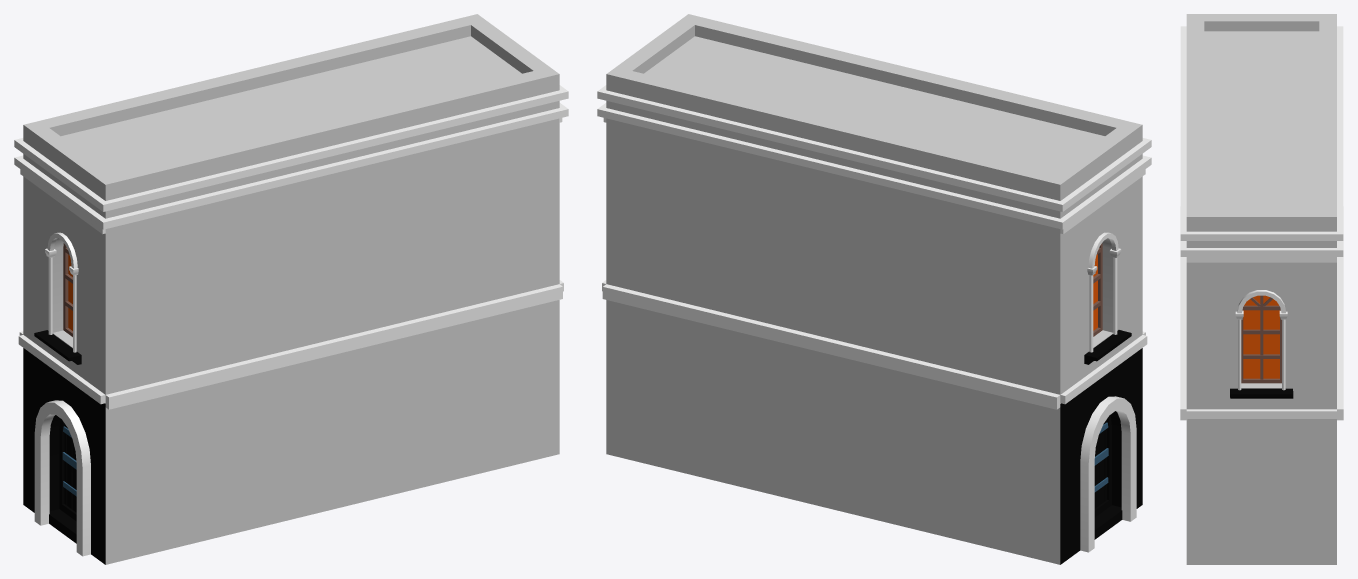
The model's file is civilian_house_36_a.FBX.
3 renders of one model, left to right at view 1: azimuth 30°, elevation 25°; view 2: azimuth 150°, elevation 25°; view 3: azimuth 270°, elevation 25°, orthographic. The views are drawn at different scales.
Visible parts, largest first — view 1: civilian_house_36_a_LOD0; view 2: civilian_house_36_a_LOD0; view 3: civilian_house_36_a_LOD0.
Boxes of the visible parts, box(x1,y1,x2,y2) form: civilian_house_36_a_LOD0: box(14, 14, 568, 564); civilian_house_36_a_LOD0: box(597, 14, 1151, 564); civilian_house_36_a_LOD0: box(1180, 14, 1343, 564).
Size of what is drawn, in the model's own units: 1057 by 800 by 340.
